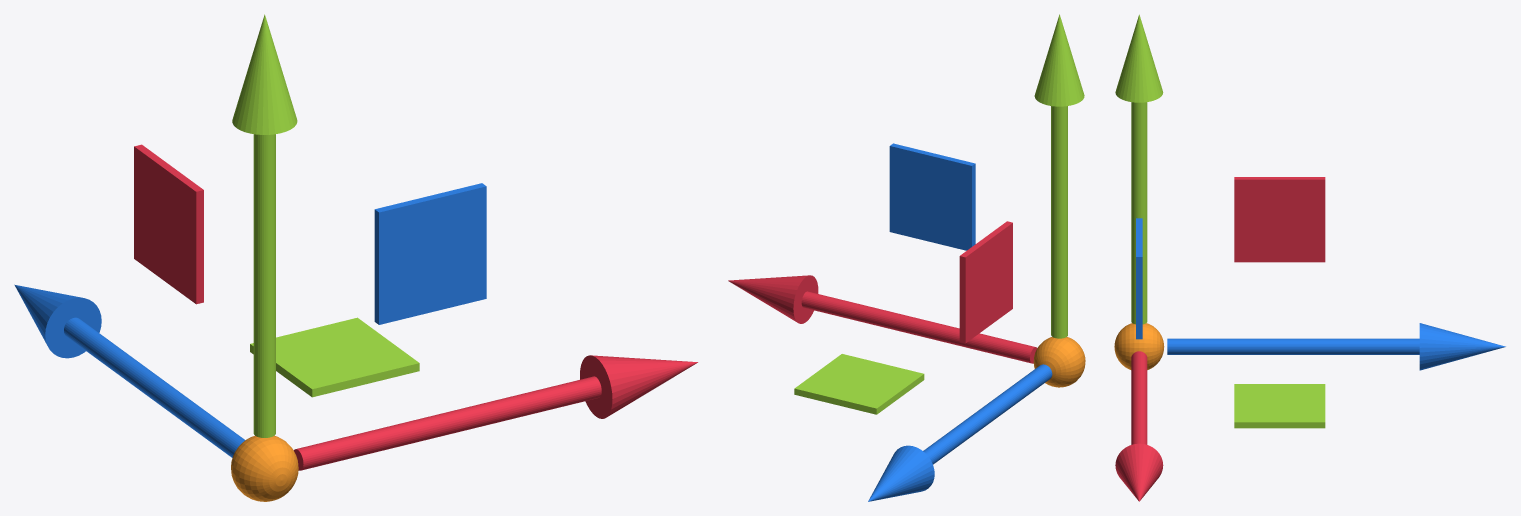
The model's file is Position.fbx.
The picture shows the model from 3 angles, left to right: view 1: azimuth 30°, elevation 25°; view 2: azimuth 150°, elevation 25°; view 3: azimuth 270°, elevation 25°; orthographic projection. The views are drawn at different scales.
Visible parts, largest first — view 1: XY, Y, X, YZ, Z, XZ, XYZ; view 2: XY, Y, X, YZ, Z, XZ, XYZ; view 3: YZ, Z, Y, XZ, X, XYZ, XY.
Boxes of the visible parts, box(x1,y1,x2,y2) form: XY: box(374, 183, 486, 324); Y: box(232, 14, 297, 437); X: box(293, 355, 697, 470); YZ: box(134, 144, 203, 304); Z: box(14, 284, 245, 457); XZ: box(250, 317, 419, 397); XYZ: box(231, 435, 298, 501); XY: box(889, 143, 975, 250); Y: box(1034, 14, 1084, 338); X: box(728, 275, 1037, 363); YZ: box(959, 221, 1012, 343); Z: box(868, 364, 1052, 501); XZ: box(794, 354, 924, 414); XYZ: box(1033, 337, 1085, 387); YZ: box(1234, 177, 1325, 262); Z: box(1167, 323, 1505, 370); Y: box(1115, 14, 1163, 324); XZ: box(1234, 384, 1325, 428); X: box(1115, 351, 1163, 501); XYZ: box(1114, 323, 1164, 369); XY: box(1136, 218, 1142, 339).
Bounding box in the file's own units: 279 × 279 × 279.
